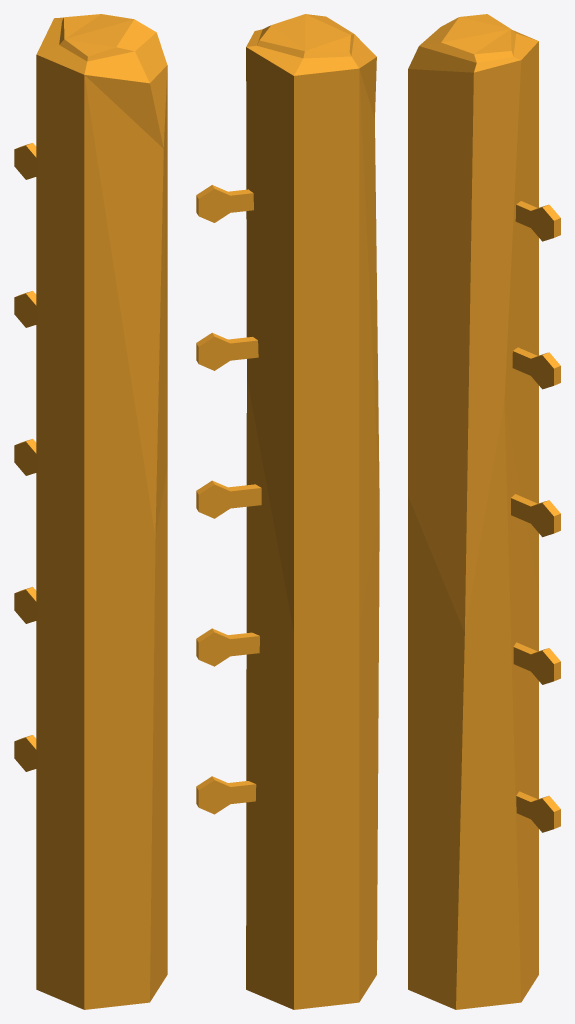
File: SM_Fence_Electric_Pole_B.fbx
3 renders of one model, left to right at view 1: azimuth 90°, elevation 25°; view 2: azimuth 150°, elevation 25°; view 3: azimuth 270°, elevation 25°, orthographic.
Visible parts, largest first — view 1: fence-electric-pole-b; view 2: fence-electric-pole-b; view 3: fence-electric-pole-b.
Boxes of the visible parts, bbox=[...] form: fence-electric-pole-b: bbox=[14, 14, 167, 1009]; fence-electric-pole-b: bbox=[196, 14, 379, 1009]; fence-electric-pole-b: bbox=[408, 14, 560, 1009].
Size of the model in its own units: 0.2193 by 1.51 by 0.2204.
